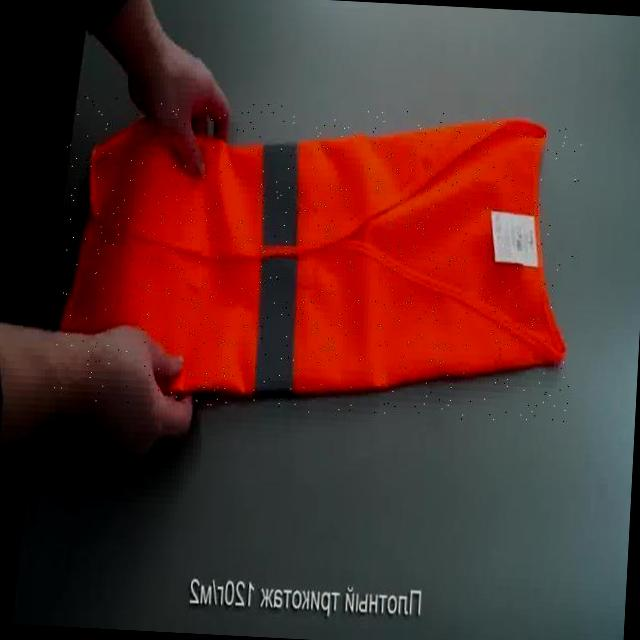vest: (53, 94, 582, 427)
